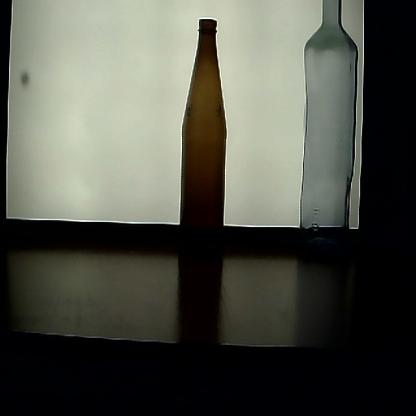Can: (298, 1, 356, 263), (176, 12, 232, 272)
